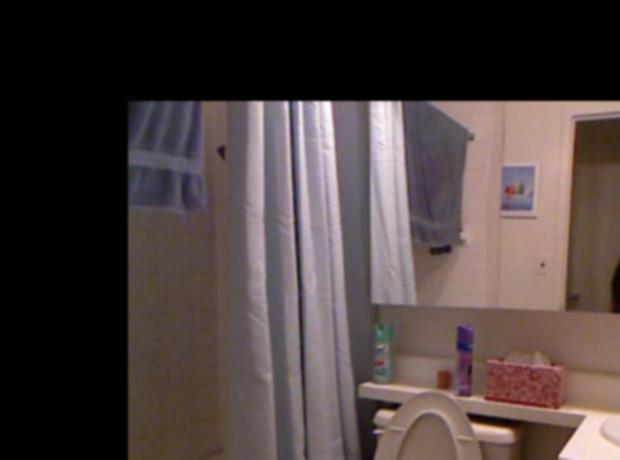Lavamanos: (595, 383, 620, 460)
Sanitario: (337, 389, 536, 460)
